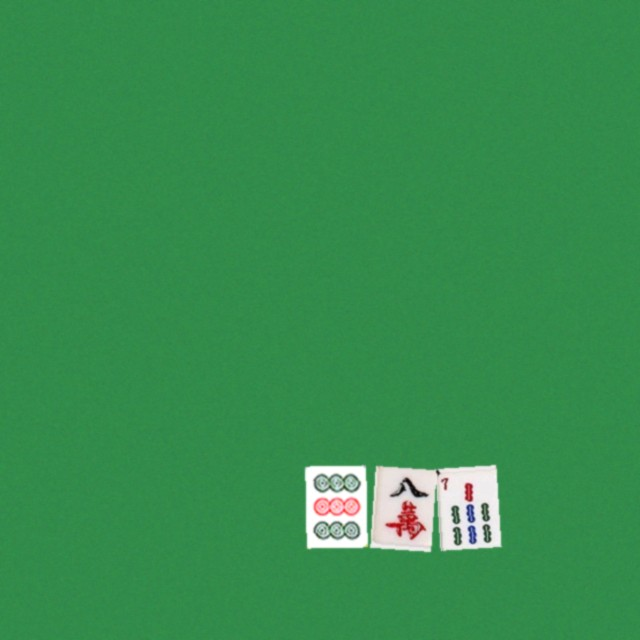tile: (305, 465, 366, 547), (370, 465, 431, 547), (435, 465, 496, 547)
